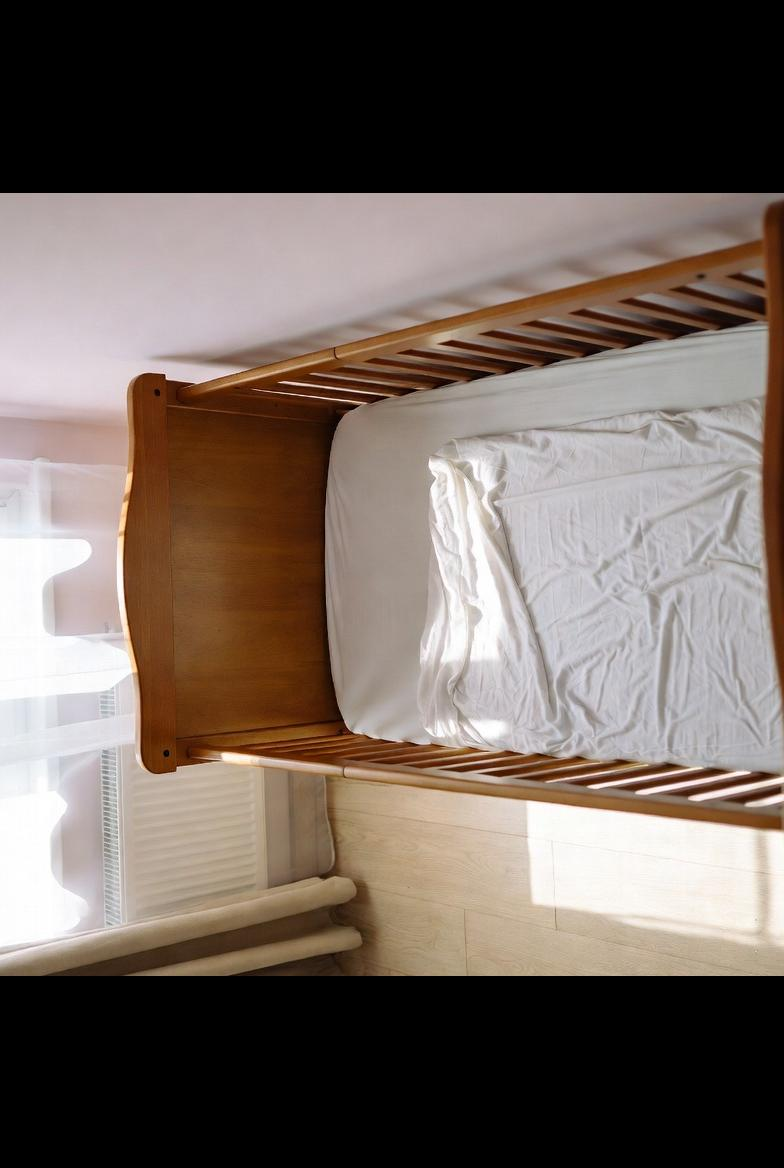crib: (86, 192, 784, 896)
